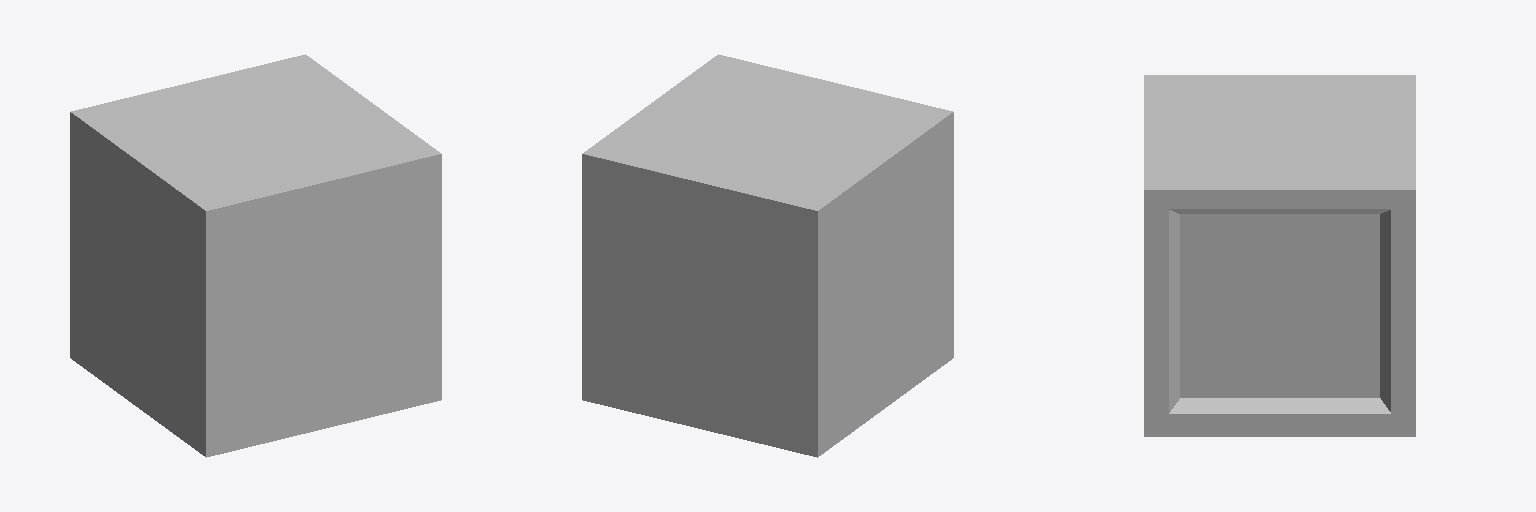
File: Monitor.obj
3 views of the same model, side by side, from view 1: azimuth 30°, elevation 25°; view 2: azimuth 150°, elevation 25°; view 3: azimuth 270°, elevation 25° (orthographic).
Parts seen in each view (by area): view 1: Cube; view 2: Cube; view 3: Cube.
Part boxes in pixels (x1,y1,x2,y2): Cube: (70, 54, 441, 457); Cube: (582, 54, 953, 457); Cube: (1144, 75, 1415, 436).
Bounding box in the file's own units: 2 × 2 × 2.